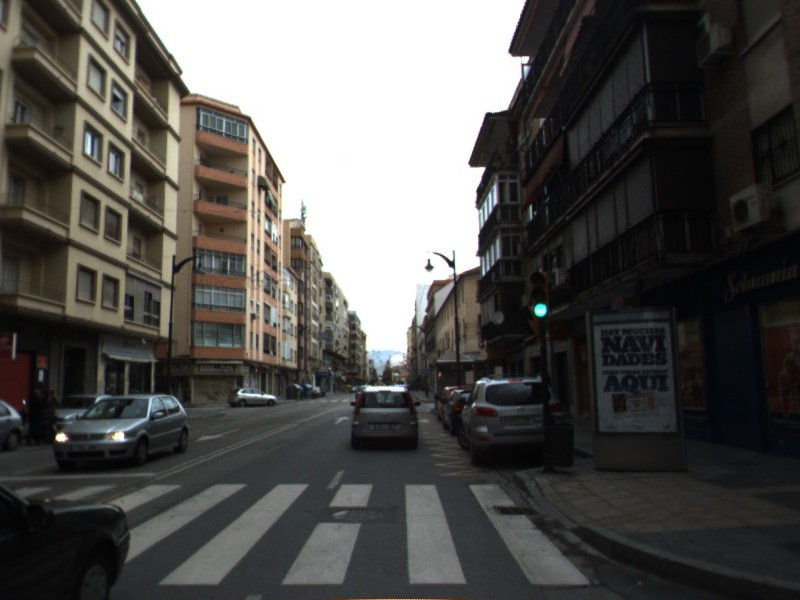STRAIGHT: (332, 415, 352, 425)
